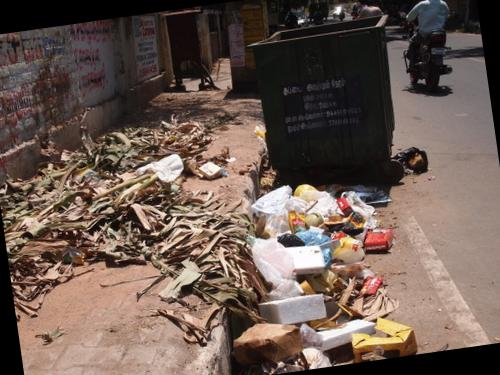garbage bin: (251, 16, 394, 169)
road: (366, 27, 500, 352)
trash: (0, 118, 265, 329), (259, 225, 397, 362)
